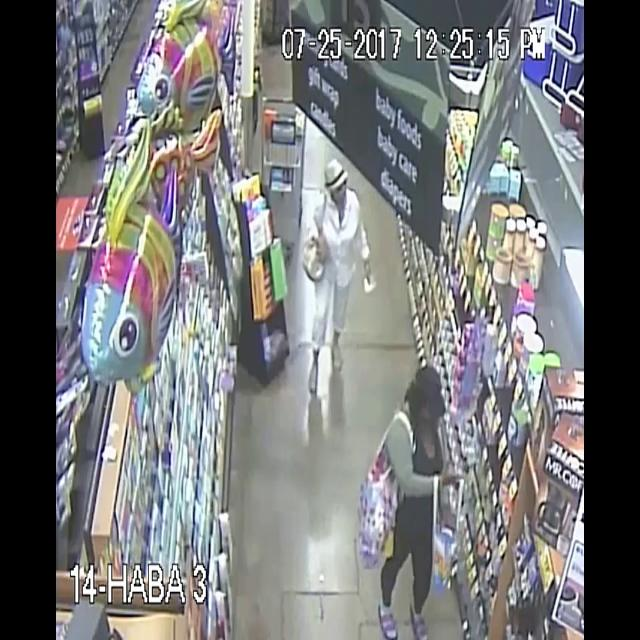normal: (297, 137, 381, 428)
shoplifting: (346, 344, 485, 640)
